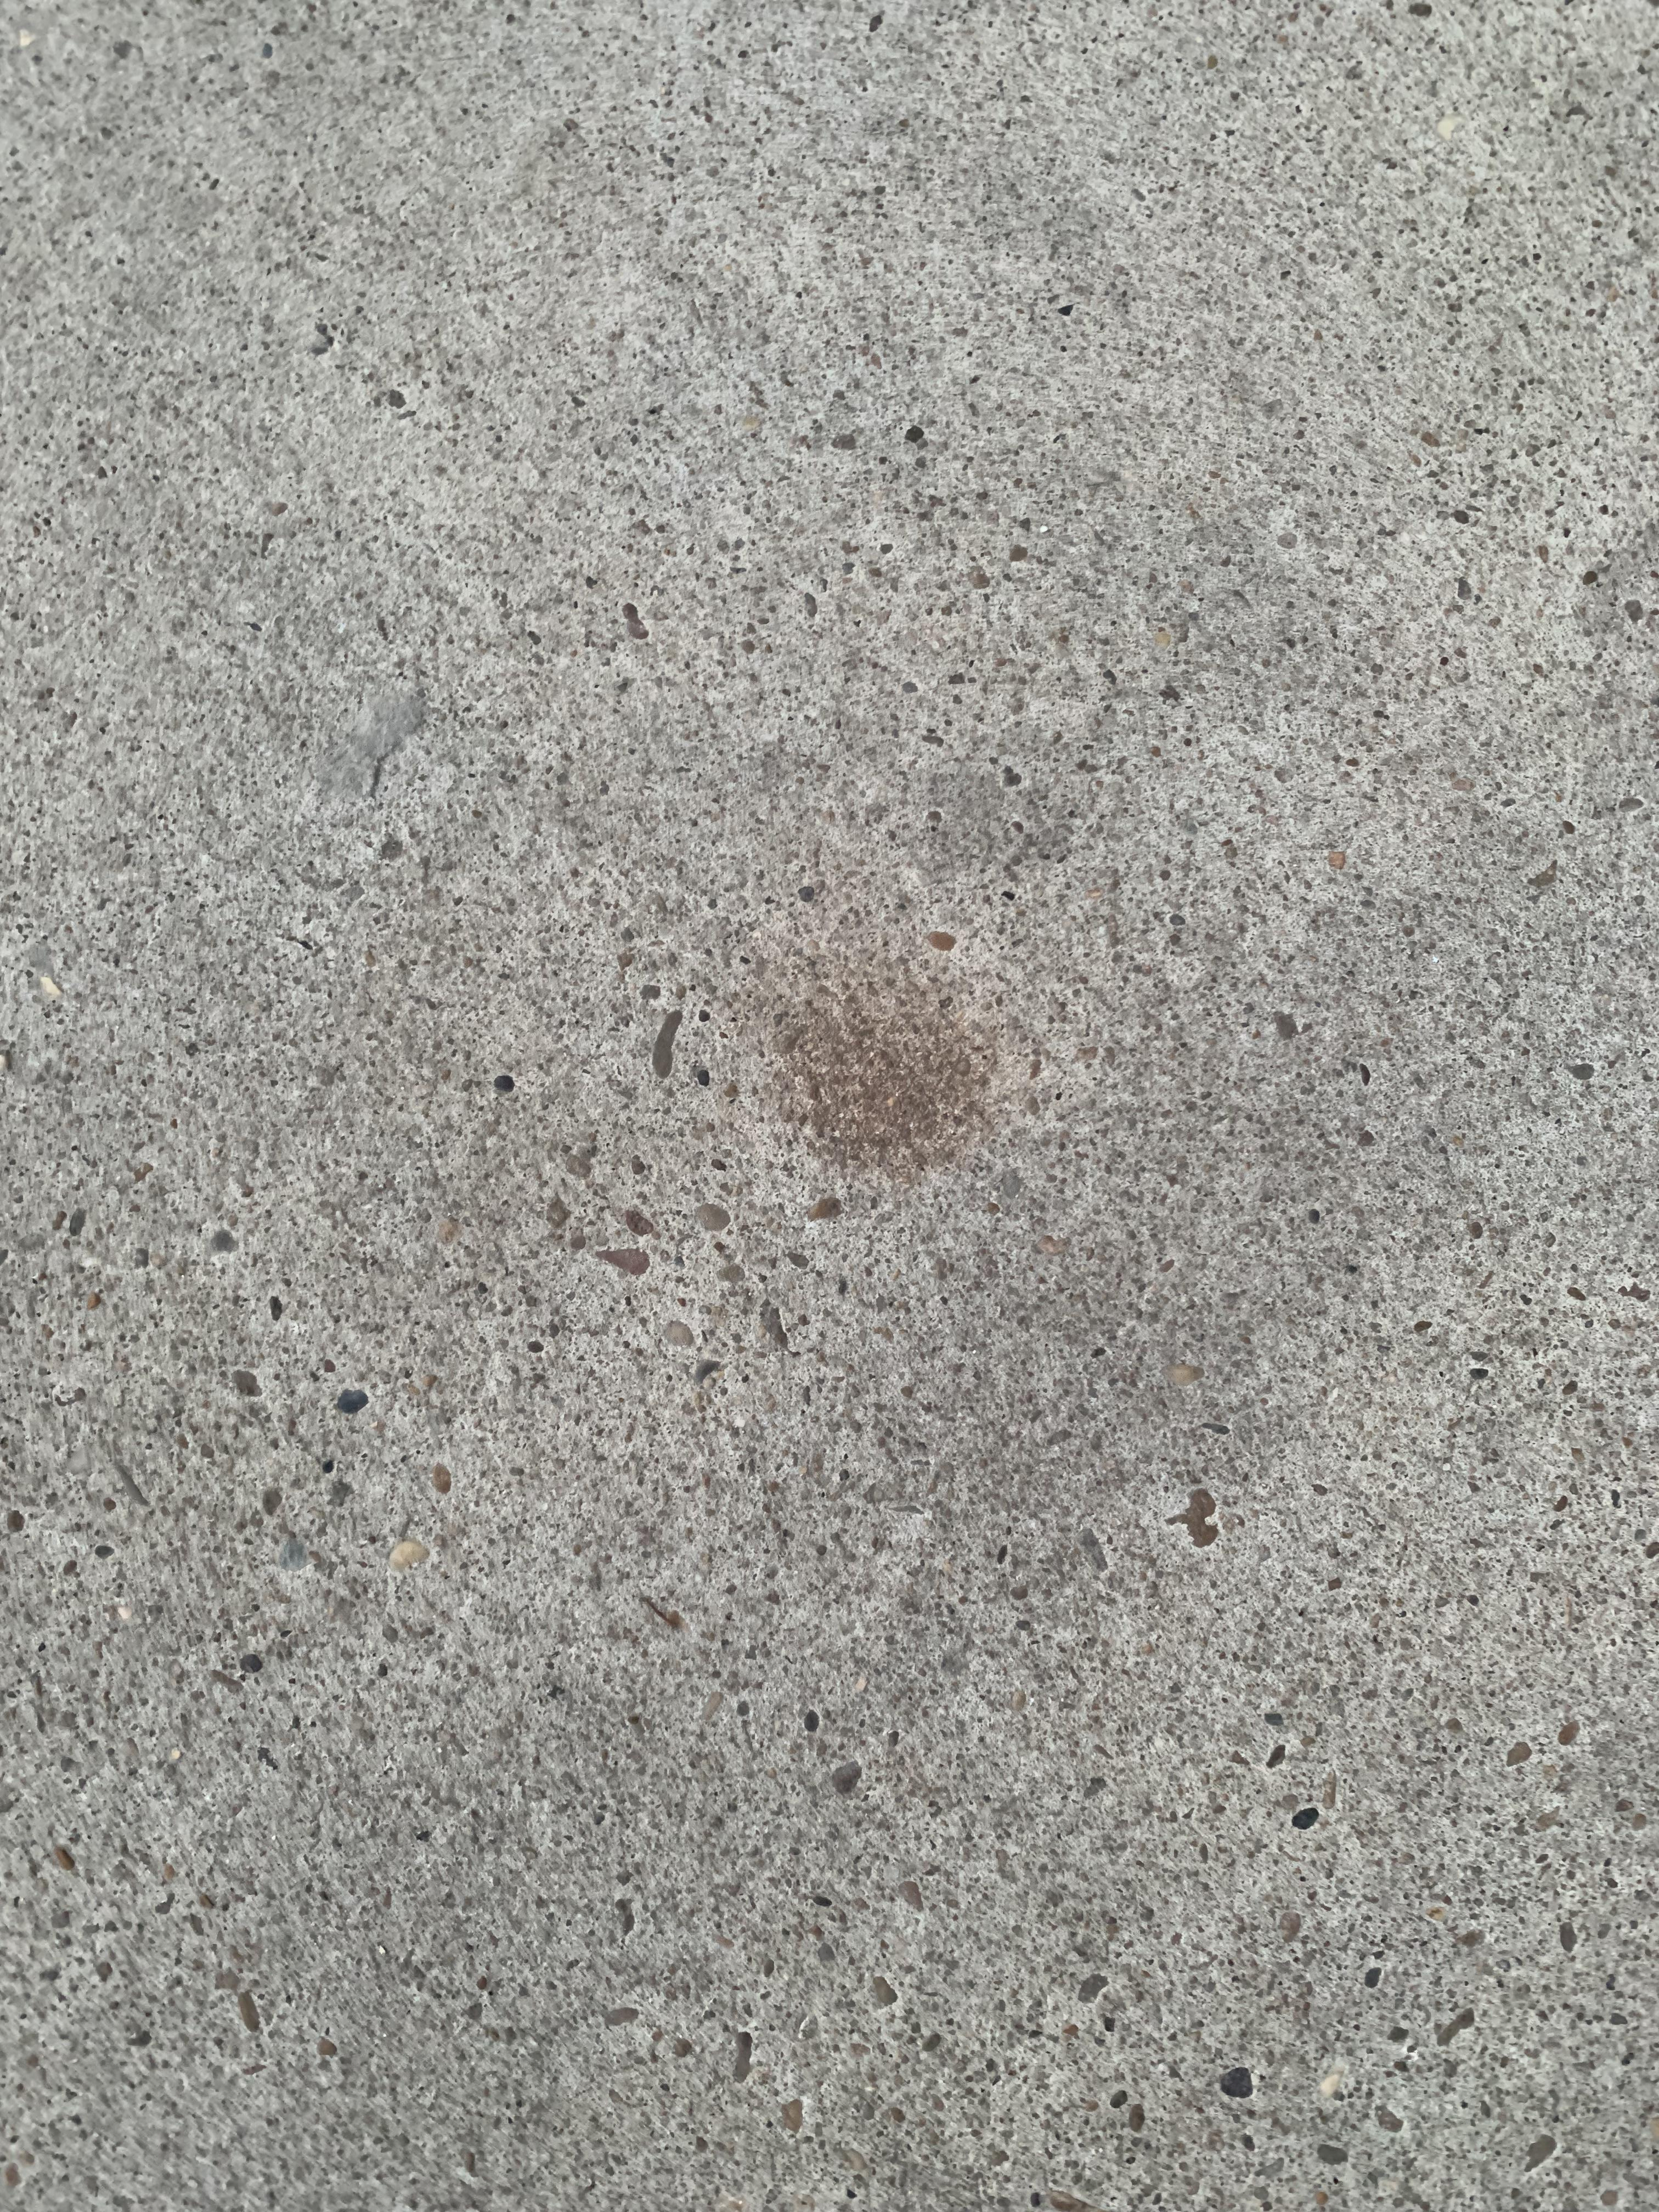ash pile: (782, 981, 986, 1174)
